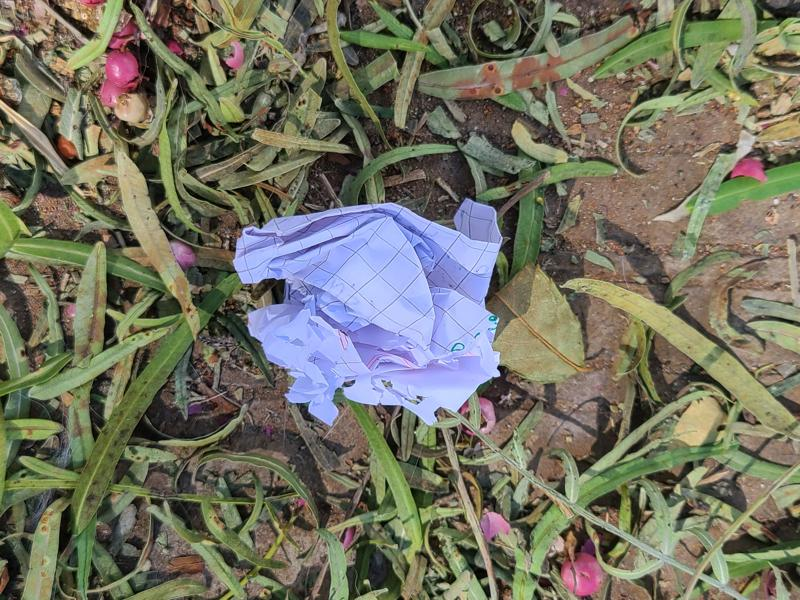papel: (233, 202, 503, 427)
